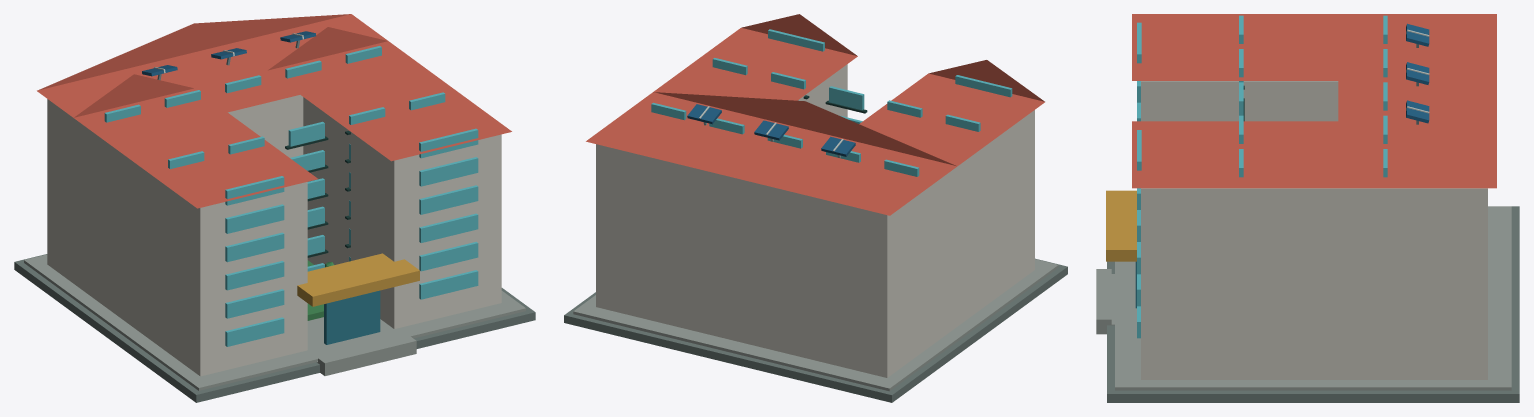
The model's file is school_lv4.glb.
3 renders of one model, left to right at view 1: azimuth 30°, elevation 25°; view 2: azimuth 150°, elevation 25°; view 3: azimuth 270°, elevation 25°, orthographic. The views are drawn at different scales.
Parts seen in each view (by area): view 1: rough, glossy, metallic; view 2: rough, glossy, metallic; view 3: rough, glossy, metallic.
Boxes of the visible parts, <box> form: rough: <box>14,14,535,402</box>; glossy: <box>104,46,478,346</box>; metallic: <box>142,31,315,80</box>; rough: <box>564,14,1067,402</box>; glossy: <box>651,29,1012,176</box>; metallic: <box>687,104,855,157</box>; rough: <box>1096,14,1519,402</box>; glossy: <box>1135,15,1387,338</box>; metallic: <box>1406,23,1429,124</box>.
Size of the model in its own units: 9.8 by 5.86 by 9.34.
